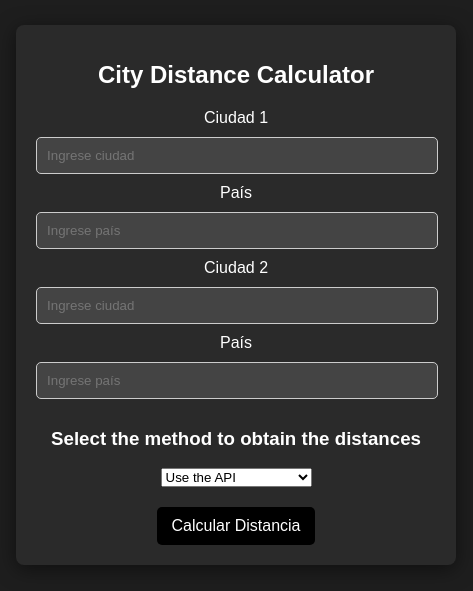
Scenario: App Component - Distance Calculation › handles non-existent city gracefully
Select "Use the API" in the dropdown: (236, 478) [160,468,312,487]
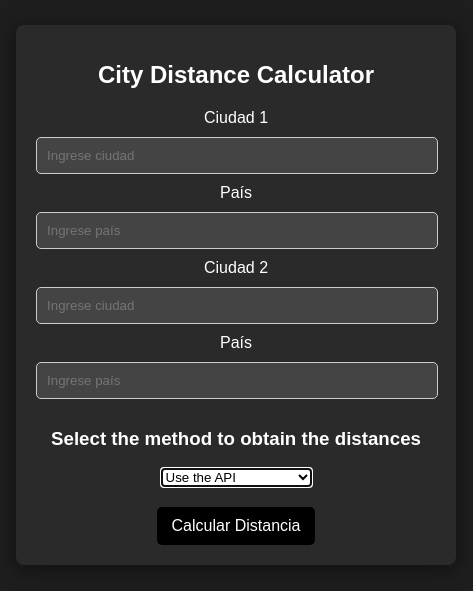
In the field with test id "ciudad1-city": (237, 155) [36,137,438,174], type "Lima"
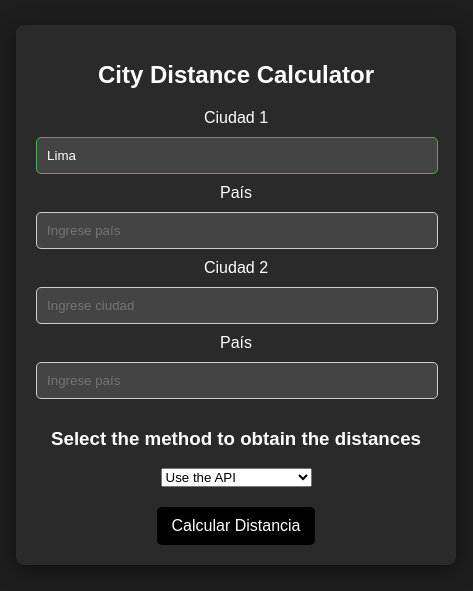
In the field with test id "ciudad1-country": (237, 230) [36,212,438,249], type "Peru"
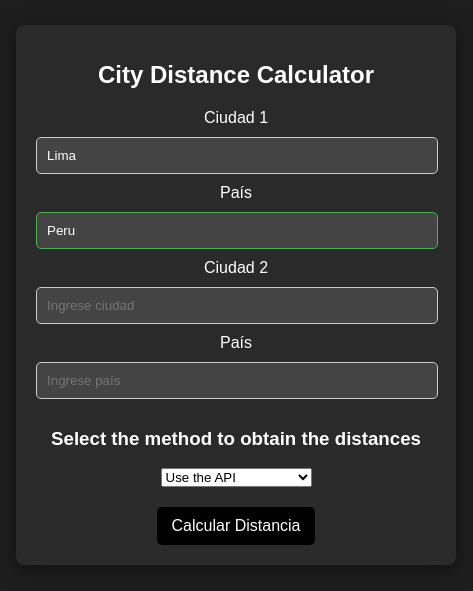
In the field with test id "ciudad2-city": (237, 305) [36,287,438,324], type "CiudadInexistente"
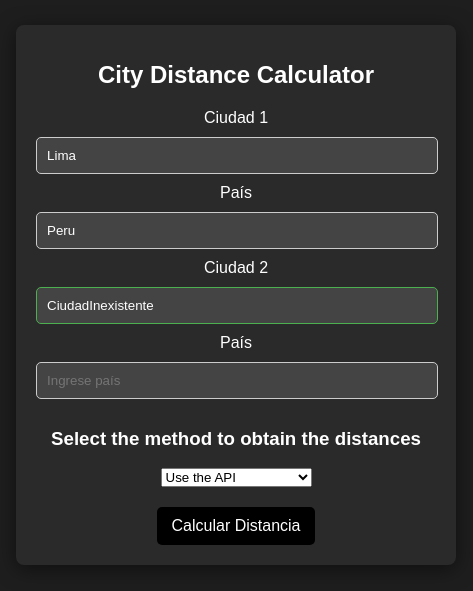
In the field with test id "ciudad2-country": (237, 380) [36,362,438,399], type "PaísInexistente"
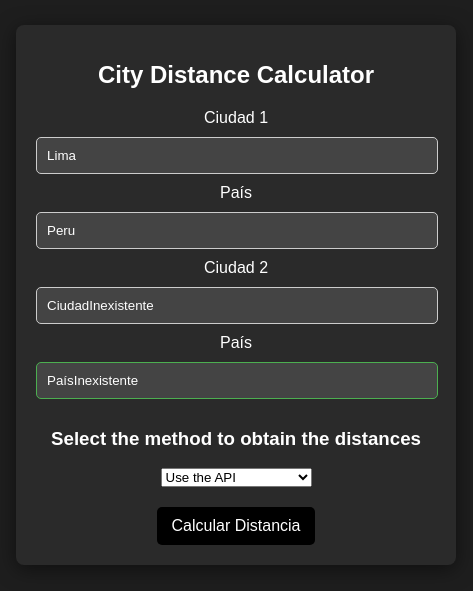
Click the button "Calcular Distancia": (236, 526) [156,507,315,545]
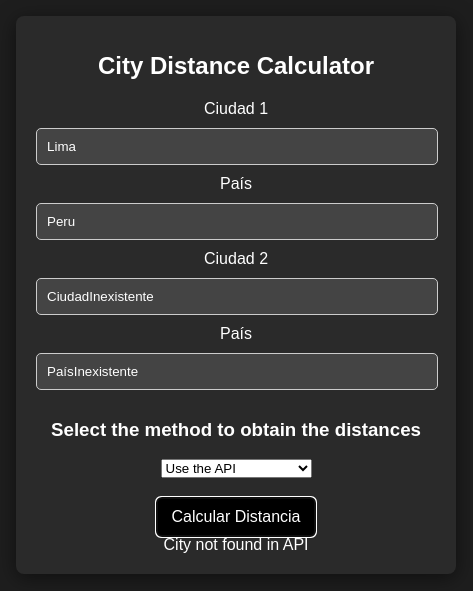
Expected: the text "City not found in API" is shown, [164,536,308,553]
